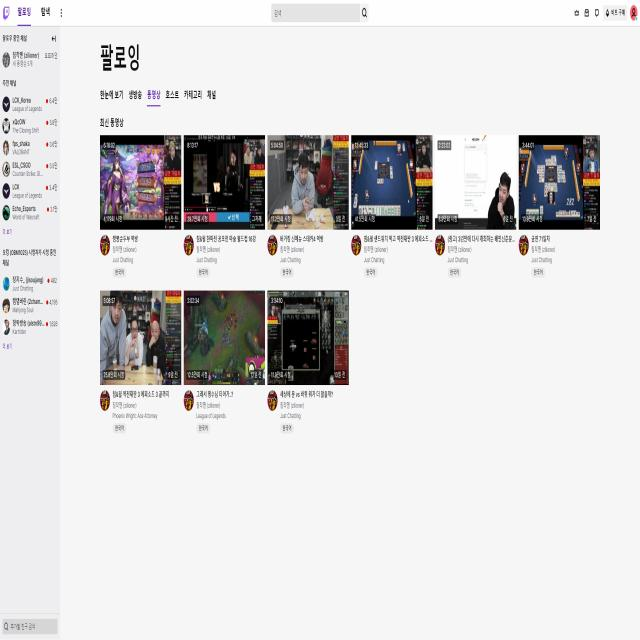menu-bar: (571, 5, 639, 22)
search: (269, 1, 372, 26)
tab-bar: (98, 89, 220, 107), (1, 2, 66, 20)
